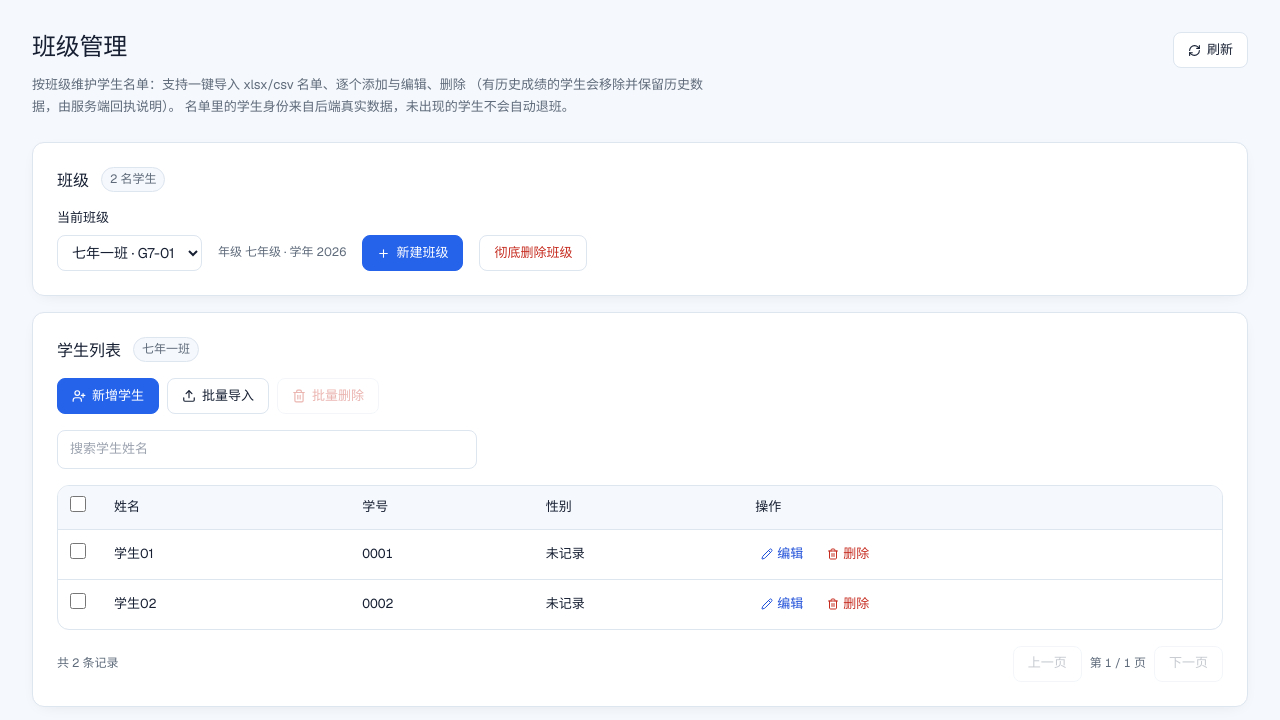
Test: 班级管理页：删除学生（DELETE 回执两模式，R10-FE） › deleted 回执：DELETE 带 expectedRevision，展示服务端 message，并刷新班级与学生列表（人数即时正确）
Expected: the text "学生02" is shown, [114,595,157,612]
Expected: the text "2 名学生" is shown, [101,167,166,192]
Click the button with test id "assessments-student-delete-st-2" at coordinates (848, 604), box [821,590,875,619]
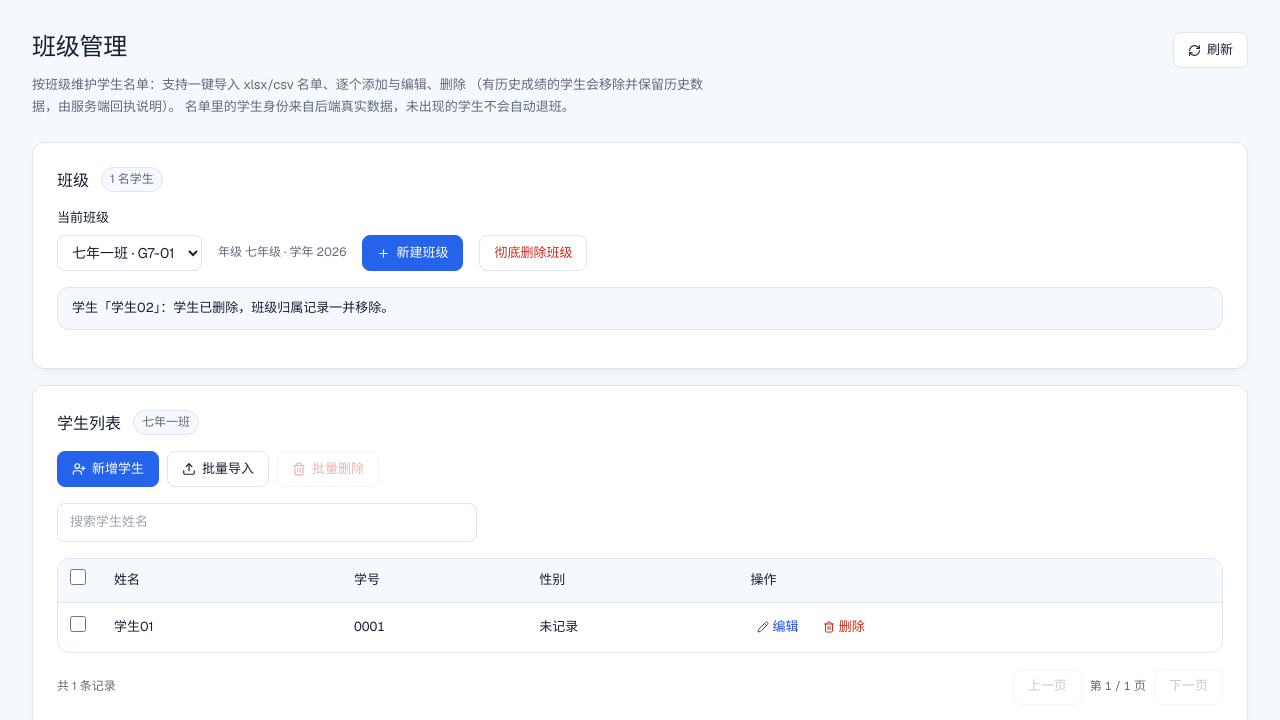
Now the message with test id "assessments-student-delete-receipt" shows "学生已删除，班级归属记录一并移除。", box [173,299,394,316]
Now the text "1 名学生" is shown, box [101,167,163,192]
